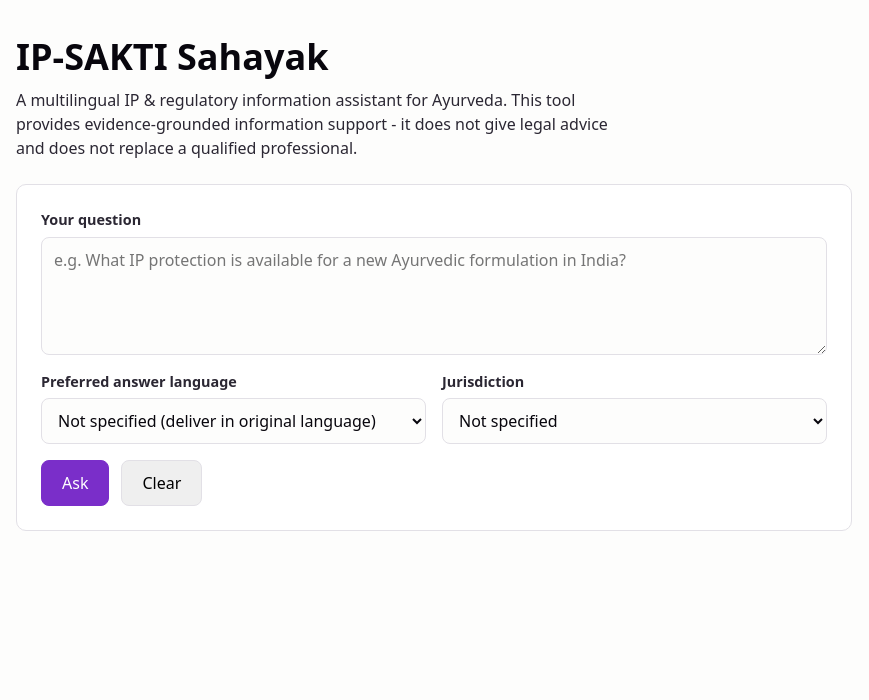
Test: query submission › shows no evidence identifiers beyond what the backend returned
Type "query" into the text box labelled "Your question" at x=434, y=296, box left=41, top=237, right=827, bottom=355
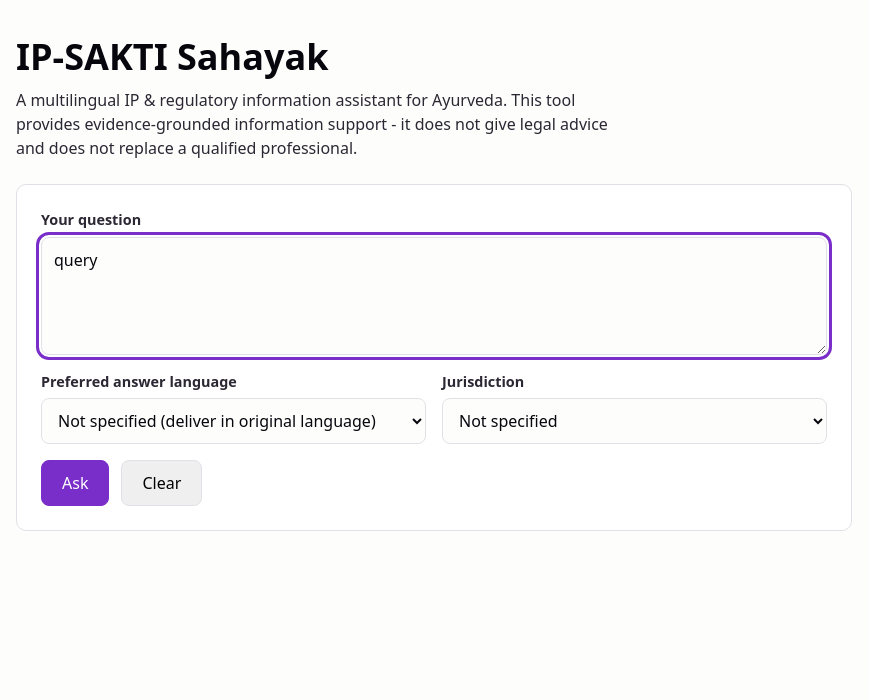
Click the button "Ask" at x=75, y=483, box left=41, top=460, right=109, bottom=506
(page scrolled)
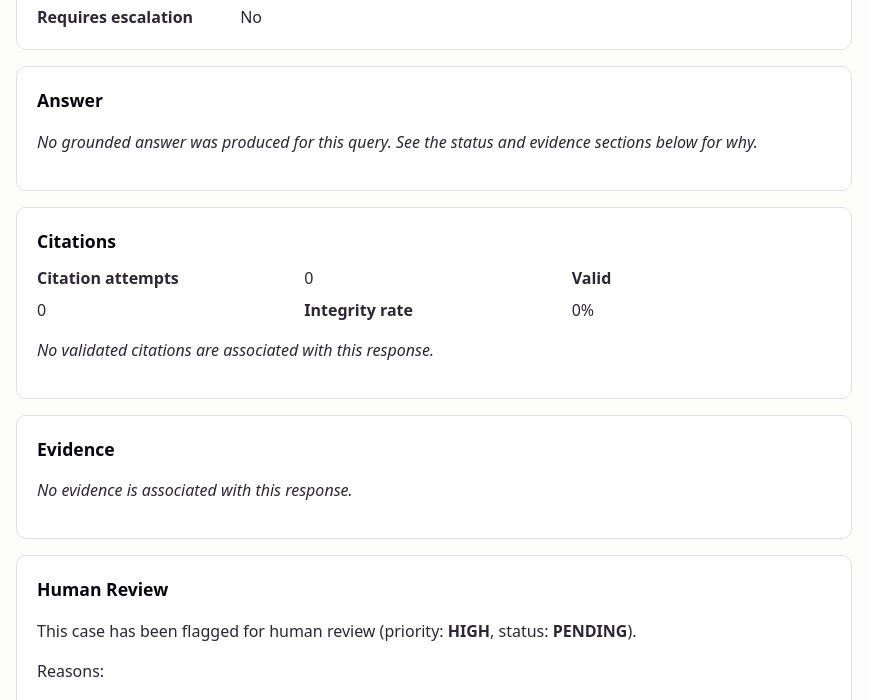
Check: the text "No evidence is associated with this response." is shown, box left=37, top=480, right=353, bottom=502
Check: the text "No validated citations are associated with this response." is shown, box left=37, top=339, right=434, bottom=361
